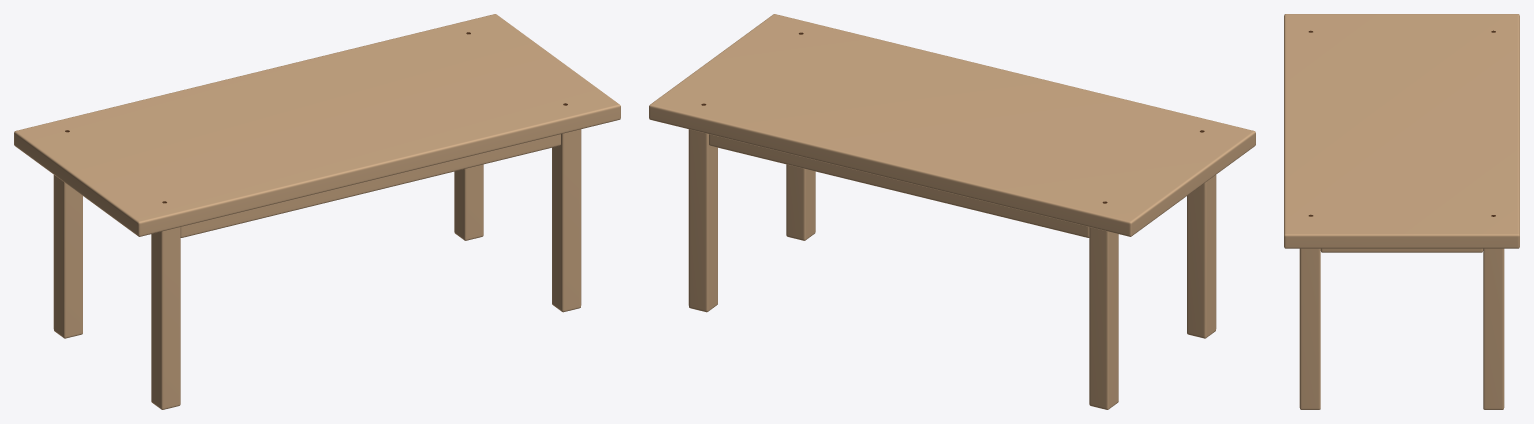
The model's file is WoodTableFBX.fbx.
3 renders of one model, left to right at view 1: azimuth 30°, elevation 25°; view 2: azimuth 150°, elevation 25°; view 3: azimuth 270°, elevation 25°, orthographic. The views are drawn at different scales.
Parts seen in each view (by area): view 1: Tavolino; view 2: Tavolino; view 3: Tavolino.
Part boxes in pixels (box(x1,y1,x2,y2)): Tavolino: box(14, 14, 620, 409); Tavolino: box(649, 14, 1255, 409); Tavolino: box(1284, 14, 1519, 409).
Bounding box in the file's own units: 200 × 80.06 × 90.
